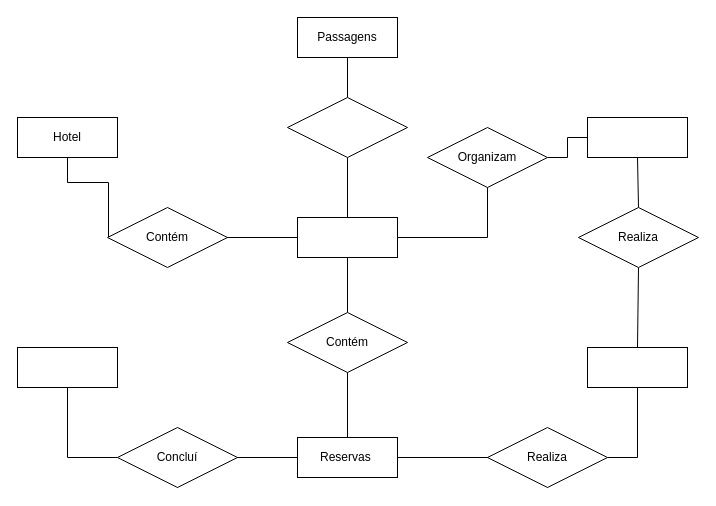
The diagram is 716 pixels wide and 506 high, and some of its shapes have lost their labels. The centre of each missing label's shape, as x and y in pixels:
Cadastro do Cliente: point (637, 367)
Funcionario: point (637, 137)
Pacote de Viagem: point (347, 237)
Pagamento: point (67, 367)
Tem: point (347, 127)
